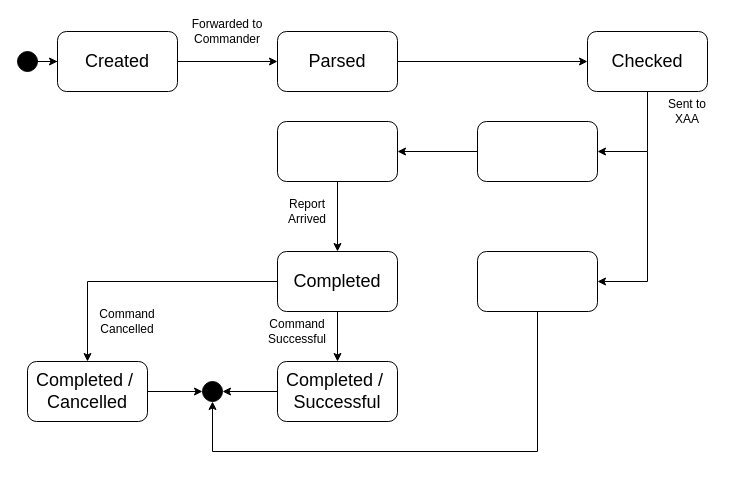
Image size: 735x477. Some labels were removed from this diagram. The shapes that lost their labels are listed below. From the top down, each one's centre as x and y in pixels, then its label:
At (x=337, y=151): "Pending".
At (x=537, y=151): "Accepted by XAA".
At (x=537, y=281): "Declined by XAA".
